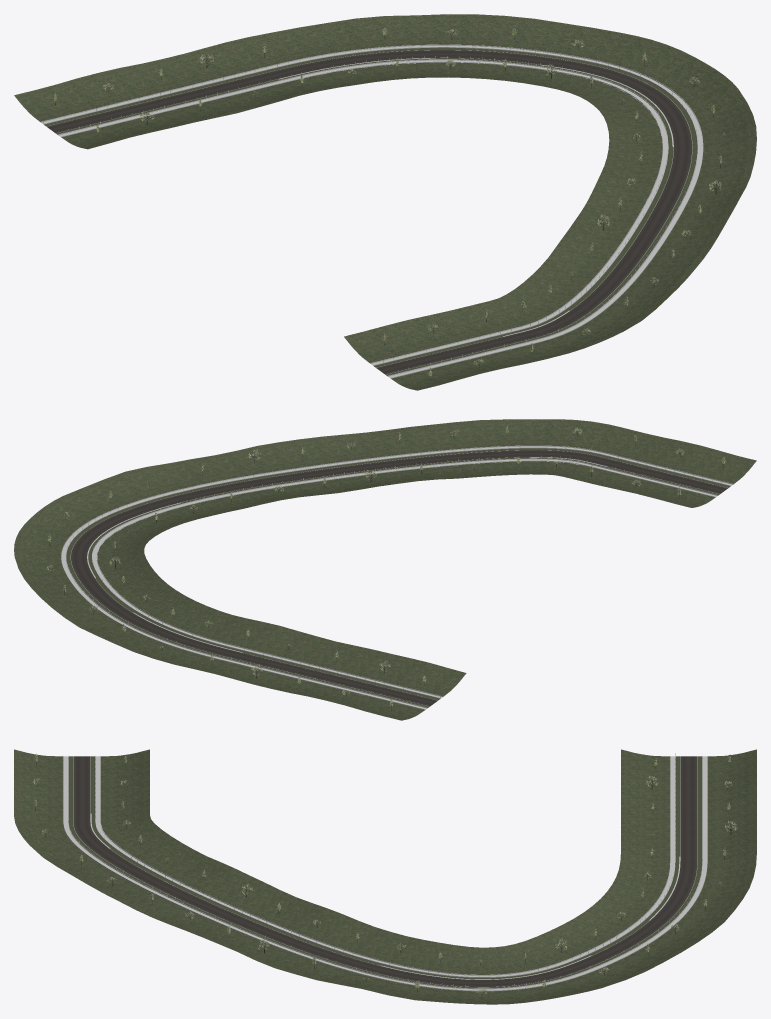
3 views of the same model, one above another, from view 1: azimuth 30°, elevation 25°; view 2: azimuth 150°, elevation 25°; view 3: azimuth 270°, elevation 25° (orthographic). The views are drawn at different scales.
Parts seen in each view (by area): view 1: Grass, Road, Track, Trees; view 2: Grass, Road, Track, Trees; view 3: Grass, Road, Track, Trees.
Part boxes in pixels (x1=…): Grass: x1=14, y1=14, x2=756, y2=390; Road: x1=46, y1=50, x2=692, y2=374; Track: x1=40, y1=44, x2=703, y2=378; Trees: x1=53, y1=26, x2=725, y2=380; Grass: x1=14, y1=419, x2=756, y2=720; Road: x1=71, y1=450, x2=728, y2=706; Track: x1=61, y1=445, x2=733, y2=709; Trees: x1=47, y1=425, x2=725, y2=710; Grass: x1=14, y1=749, x2=756, y2=1004; Road: x1=73, y1=756, x2=697, y2=986; Track: x1=63, y1=753, x2=707, y2=991; Trees: x1=33, y1=754, x2=737, y2=998.
Bounding box in the file's own units: 61070 × 2358 × 76500.
